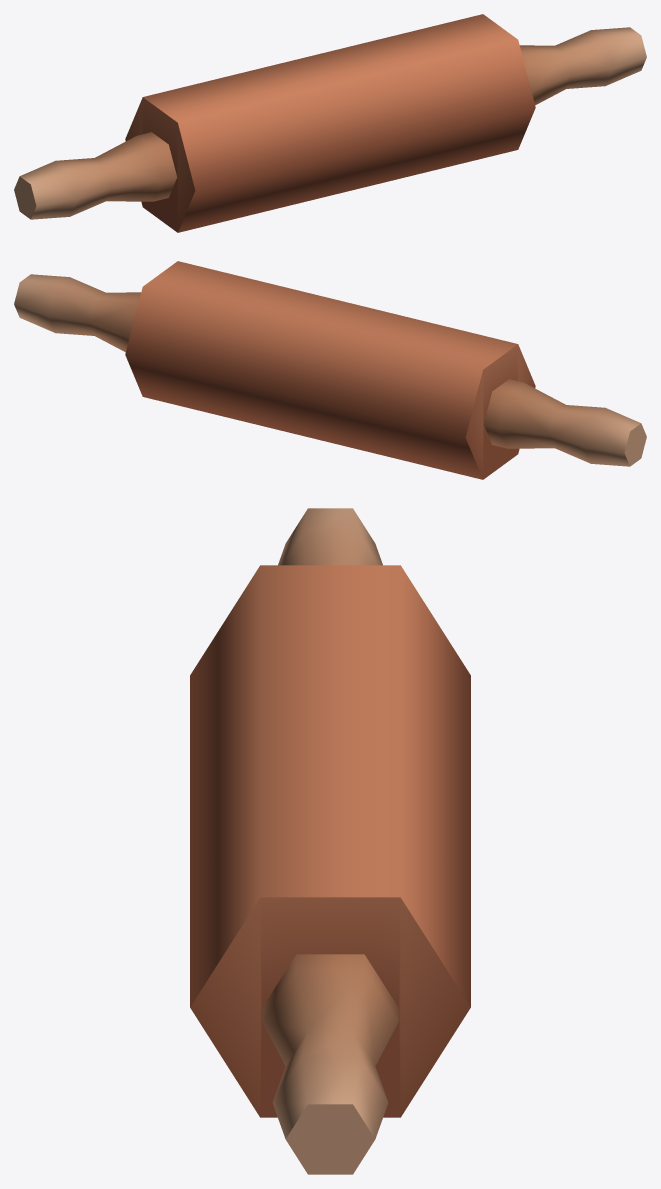
File: rollingPin.glb
The picture shows the model from 3 angles, top to bottom: view 1: azimuth 30°, elevation 25°; view 2: azimuth 150°, elevation 25°; view 3: azimuth 270°, elevation 25°; orthographic projection. The views are drawn at different scales.
Parts seen in each view (by area): view 1: rollingPin; view 2: rollingPin; view 3: rollingPin.
Part boxes in pixels (x1=…): rollingPin: x1=14, y1=14, x2=646, y2=232; rollingPin: x1=14, y1=261, x2=646, y2=479; rollingPin: x1=190, y1=508, x2=470, y2=1174.
Size of the model in its own units: 0.8137 by 0.1403 by 0.162.
